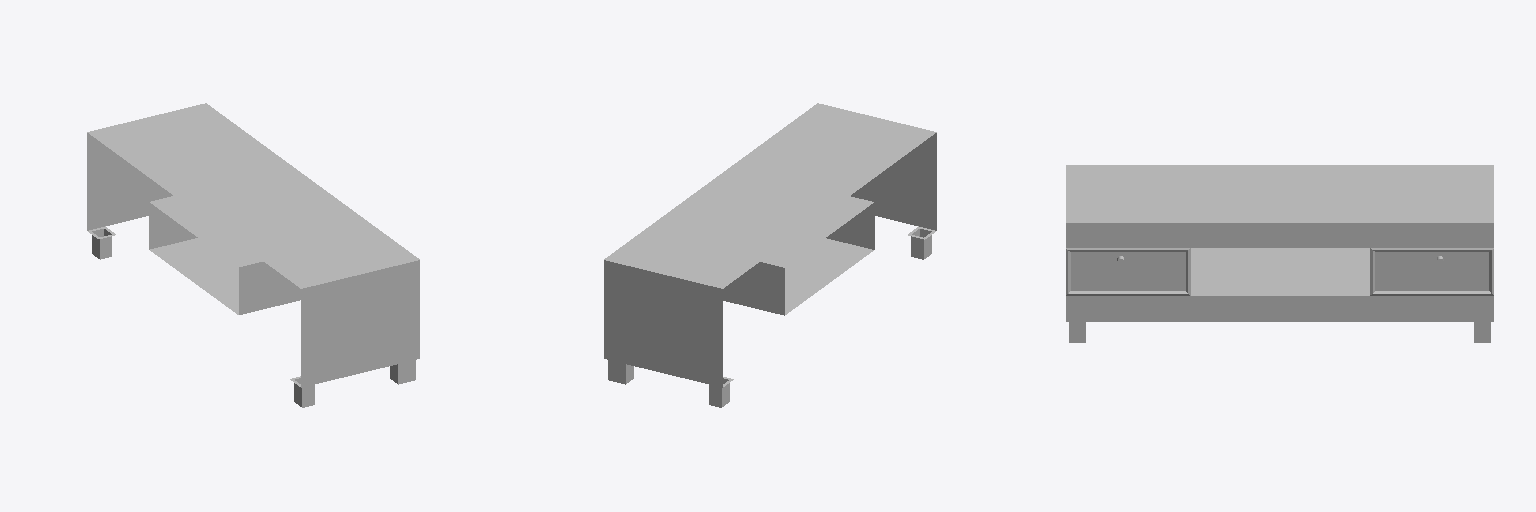
Rendered from tv table.obj.
The picture shows the model from 3 angles: view 1: azimuth 30°, elevation 25°; view 2: azimuth 150°, elevation 25°; view 3: azimuth 270°, elevation 25°; orthographic projection.
Visible parts, largest first — view 1: polySurface174; view 2: polySurface174; view 3: polySurface174.
Part boxes in pixels (left/top/right/bottom): polySurface174: left=87, top=103, right=419, bottom=407; polySurface174: left=604, top=103, right=936, bottom=407; polySurface174: left=1066, top=165, right=1493, bottom=342.
Bounding box in the file's own units: 521 × 486 × 1559.